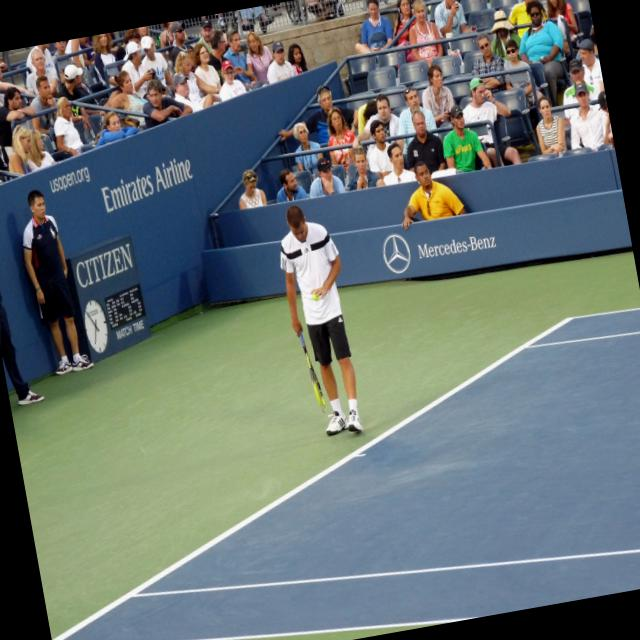Tennis ball: (312, 290, 321, 300)
